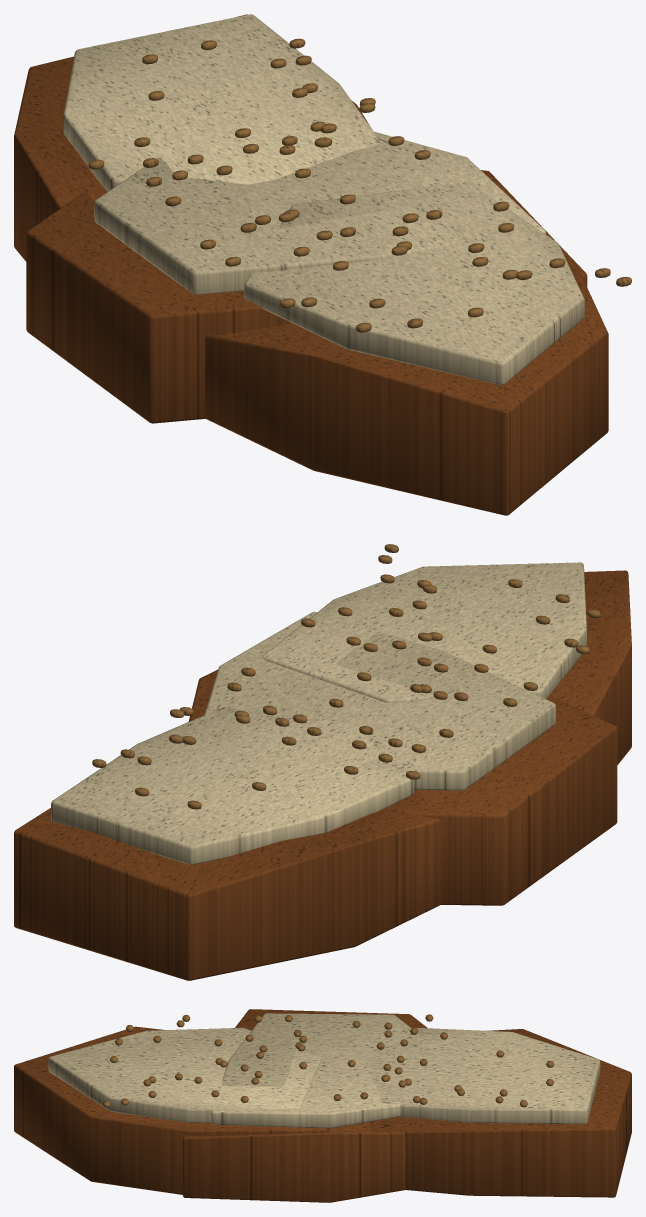
The model's file is food-03-full.glb.
3 views of the same model, one above another, from view 1: azimuth 30°, elevation 25°; view 2: azimuth 150°, elevation 25°; view 3: azimuth 270°, elevation 25° (orthographic). The views are drawn at different scales.
Visible parts, largest first — view 1: Food; view 2: Food; view 3: Food.
Part boxes in pixels (box(x1,y1,x2,y2)): Food: box(14, 14, 631, 515); Food: box(14, 544, 631, 980); Food: box(14, 1009, 631, 1202).
Size of the model in its own units: 0.3405 by 0.1128 by 0.7072.
1 material, 1 textured.
